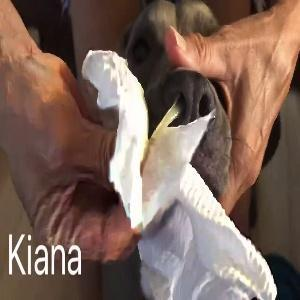nasal_discharge: (149, 74, 191, 143)
